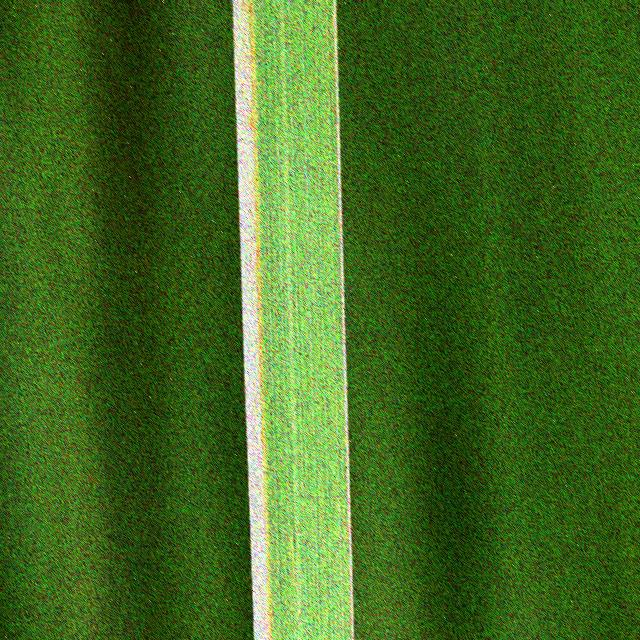BLB: (233, 0, 271, 640)
